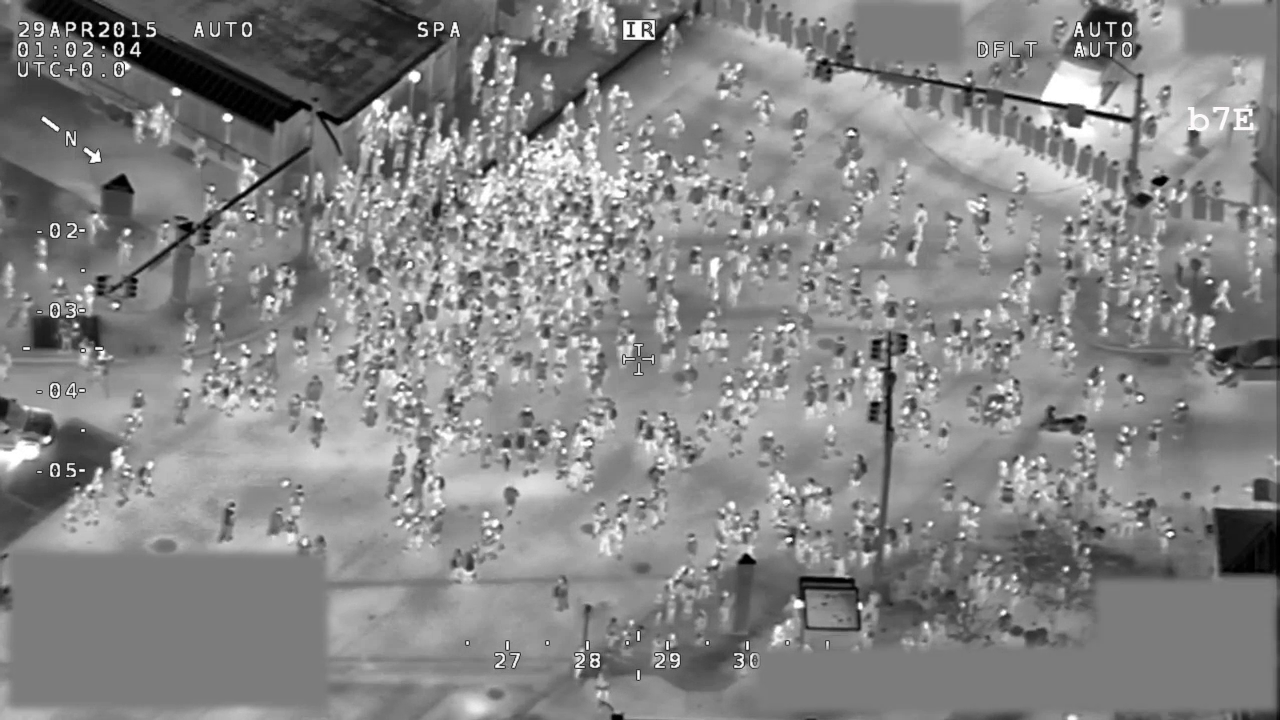vehicle: (1038, 4, 1147, 124)
